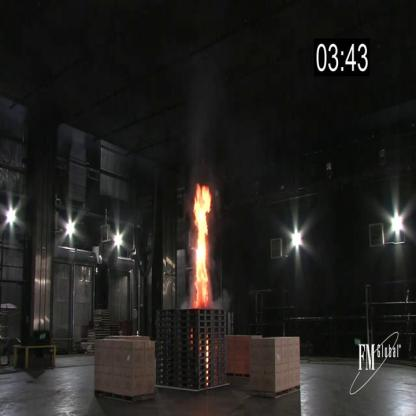fire: (189, 180, 219, 306)
